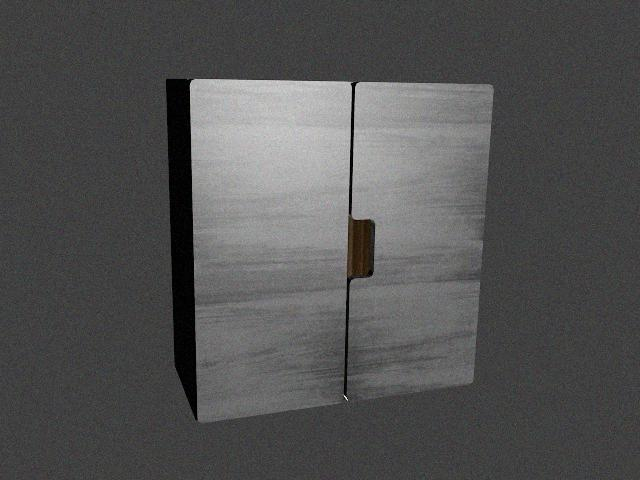cabinet_door: (194, 80, 348, 414), (351, 83, 484, 394)
handle: (353, 217, 373, 280)
